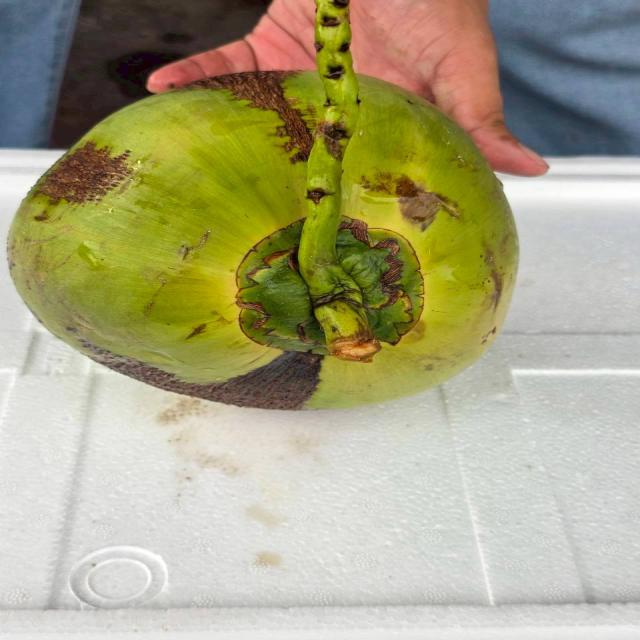coco_1.5: (174, 184, 492, 386)
